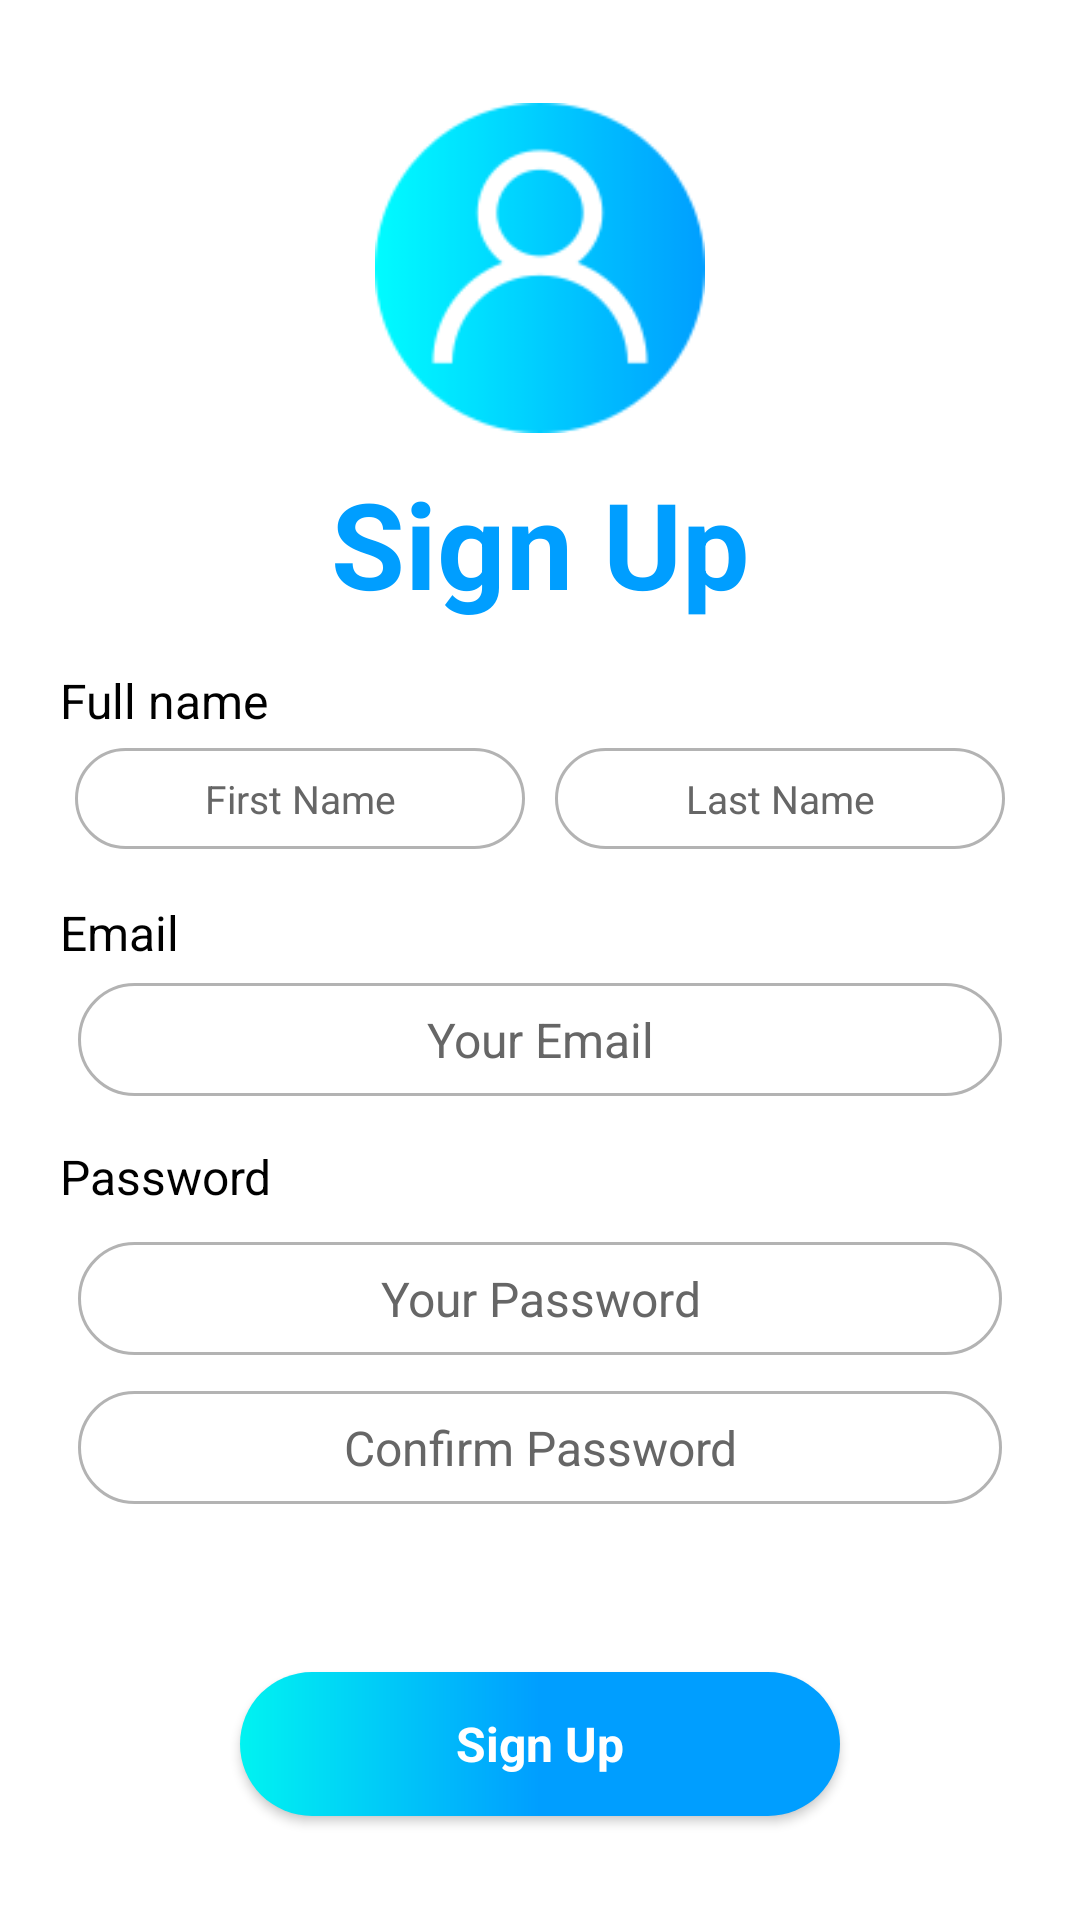

Where to tap for icons on this 1080px×1920px app screen, as [x,y]:
profile user: [540,268]
